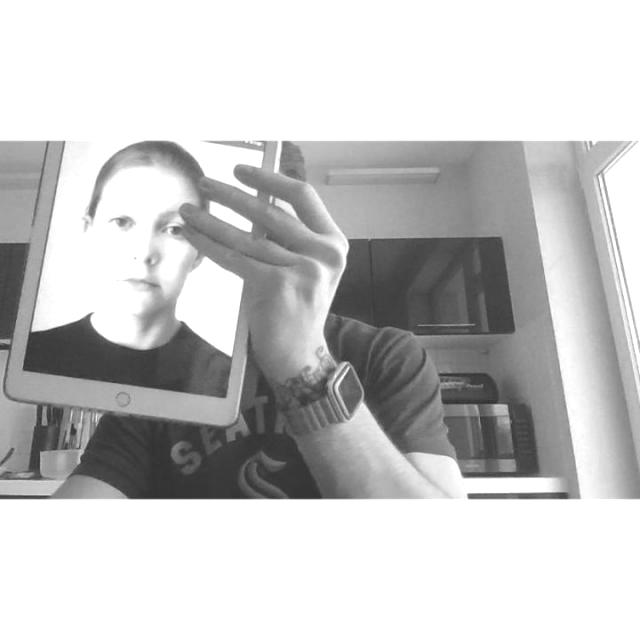fake: (1, 141, 289, 437)
